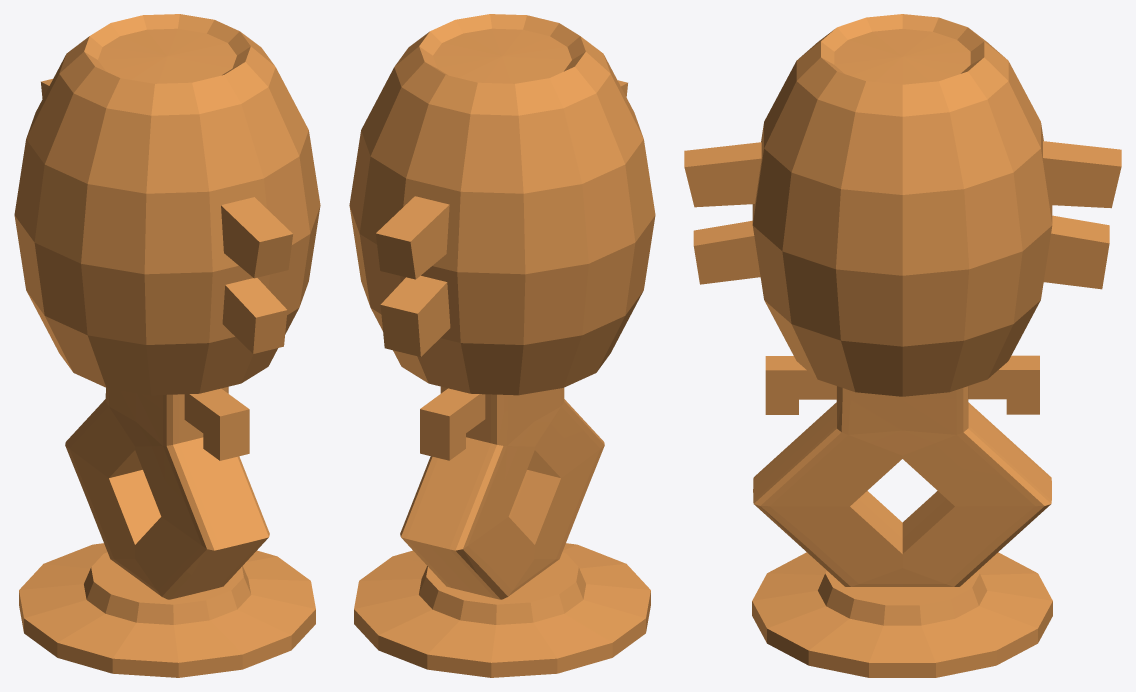
The model's file is Horgahn.fbx.
3 views of the same model, side by side, from view 1: azimuth 30°, elevation 25°; view 2: azimuth 150°, elevation 25°; view 3: azimuth 270°, elevation 25° (orthographic).
Parts seen in each view (by area): view 1: Horgahn; view 2: Horgahn; view 3: Horgahn.
Boxes of the visible parts, box(x1,y1,x2,y2) form: Horgahn: box(14, 14, 320, 677); Horgahn: box(349, 14, 655, 677); Horgahn: box(684, 14, 1121, 677).
Bounding box in the file's own units: 190 × 386 × 270.
